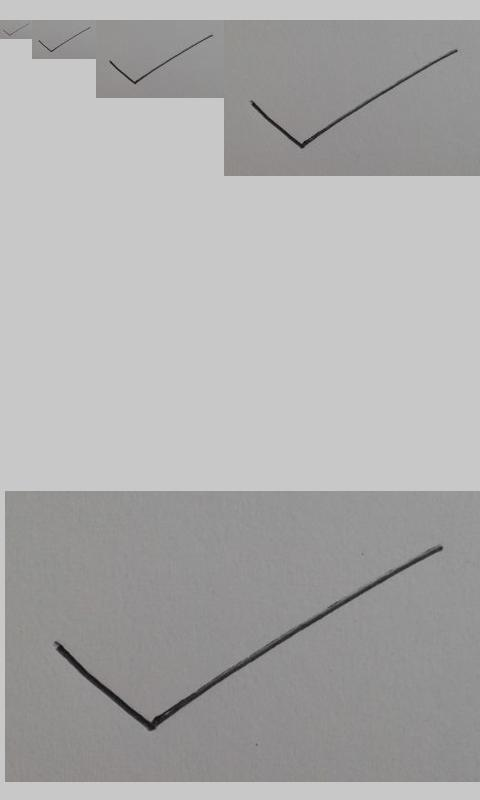check_box: (54, 545, 444, 733), (250, 49, 458, 149), (109, 34, 213, 84), (39, 27, 90, 53), (3, 23, 28, 36)
